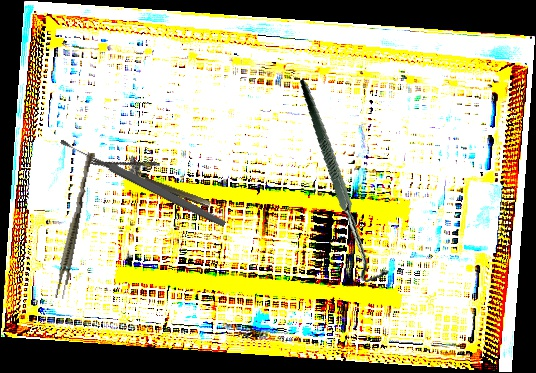Hook Surgical: (270, 78, 418, 286)
Needle Holder: (89, 140, 218, 209)
Surgical Spoon: (58, 135, 228, 230)
Tissue Forceps: (53, 151, 96, 300)
